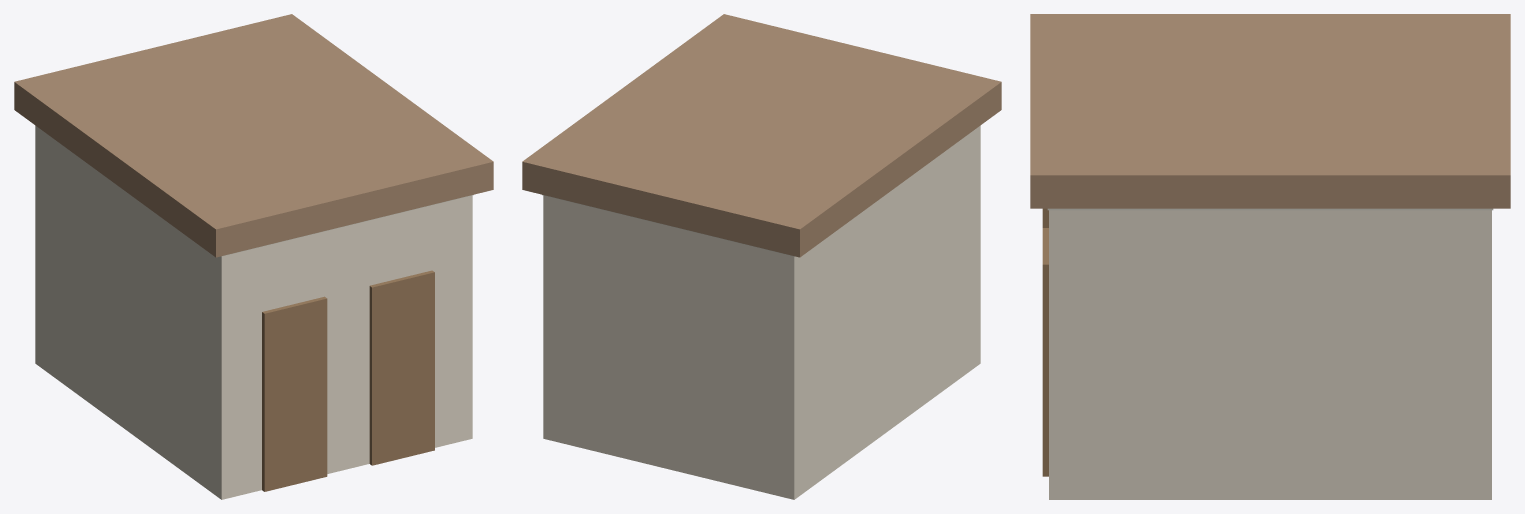
File: restroom.glb
3 renders of one model, left to right at view 1: azimuth 30°, elevation 25°; view 2: azimuth 150°, elevation 25°; view 3: azimuth 270°, elevation 25°, orthographic. The views are drawn at different scales.
Visible parts, largest first — view 1: Restroom; view 2: Restroom; view 3: Restroom.
Boxes of the visible parts, x1=… form: Restroom: x1=14, y1=14, x2=493, y2=499; Restroom: x1=522, y1=14, x2=1001, y2=499; Restroom: x1=1030, y1=14, x2=1510, y2=499.
Size of the model in its own units: 3.1 by 2.98 by 3.9.
